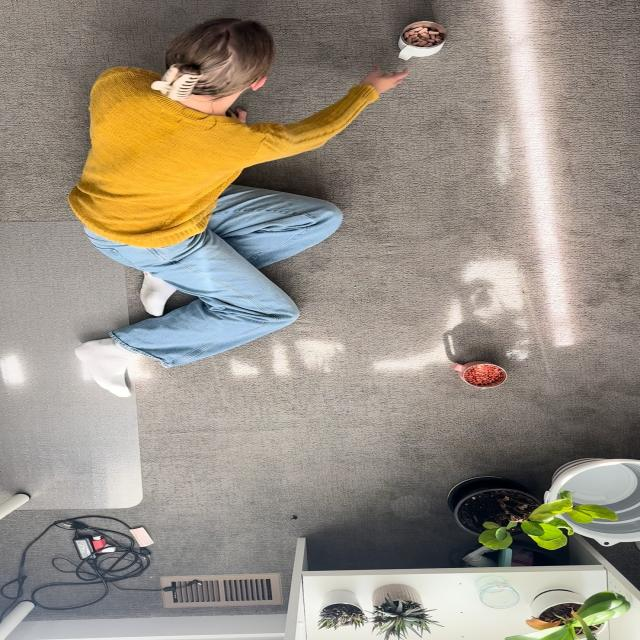IBC: (399, 21, 446, 60), (450, 361, 506, 388)
